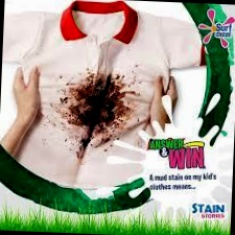earth: (71, 77, 124, 131)
